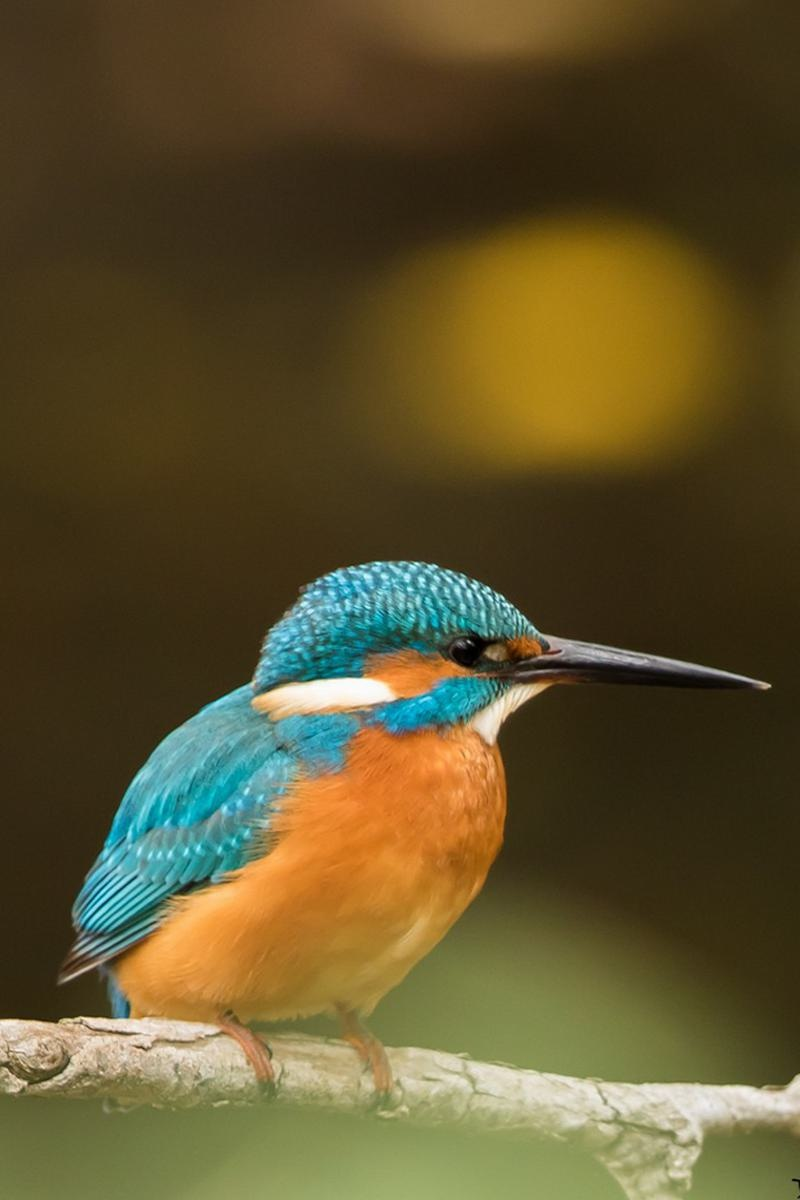kingfisher: (72, 535, 769, 1076)
